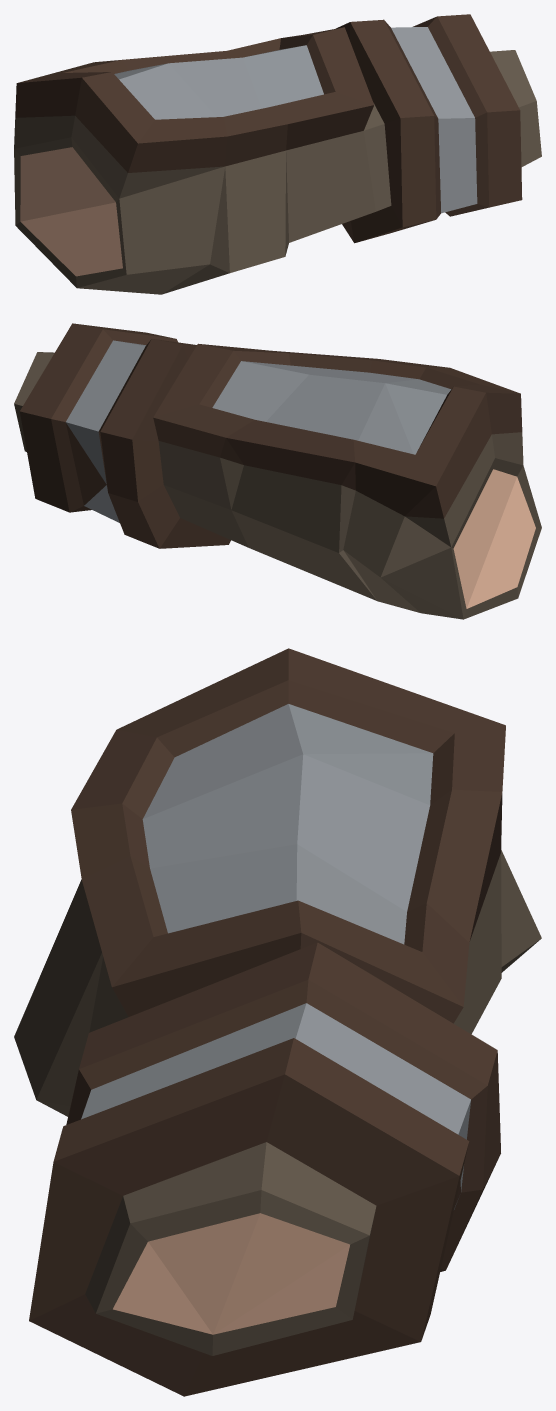
The model's file is Chr_ArmLowerLeft_Male_10_Static.fbx.
3 renders of one model, top to bottom at view 1: azimuth 30°, elevation 25°; view 2: azimuth 150°, elevation 25°; view 3: azimuth 270°, elevation 25°, orthographic. The views are drawn at different scales.
Parts seen in each view (by area): view 1: Chr_ArmLowerLeft_Male_10_Static; view 2: Chr_ArmLowerLeft_Male_10_Static; view 3: Chr_ArmLowerLeft_Male_10_Static.
Part boxes in pixels (<box>): Chr_ArmLowerLeft_Male_10_Static: <box>14,14,541,294</box>; Chr_ArmLowerLeft_Male_10_Static: <box>14,323,541,619</box>; Chr_ArmLowerLeft_Male_10_Static: <box>14,648,541,1396</box>.
Bounding box in the file's own units: 0.2903 × 0.136 × 0.1517.
